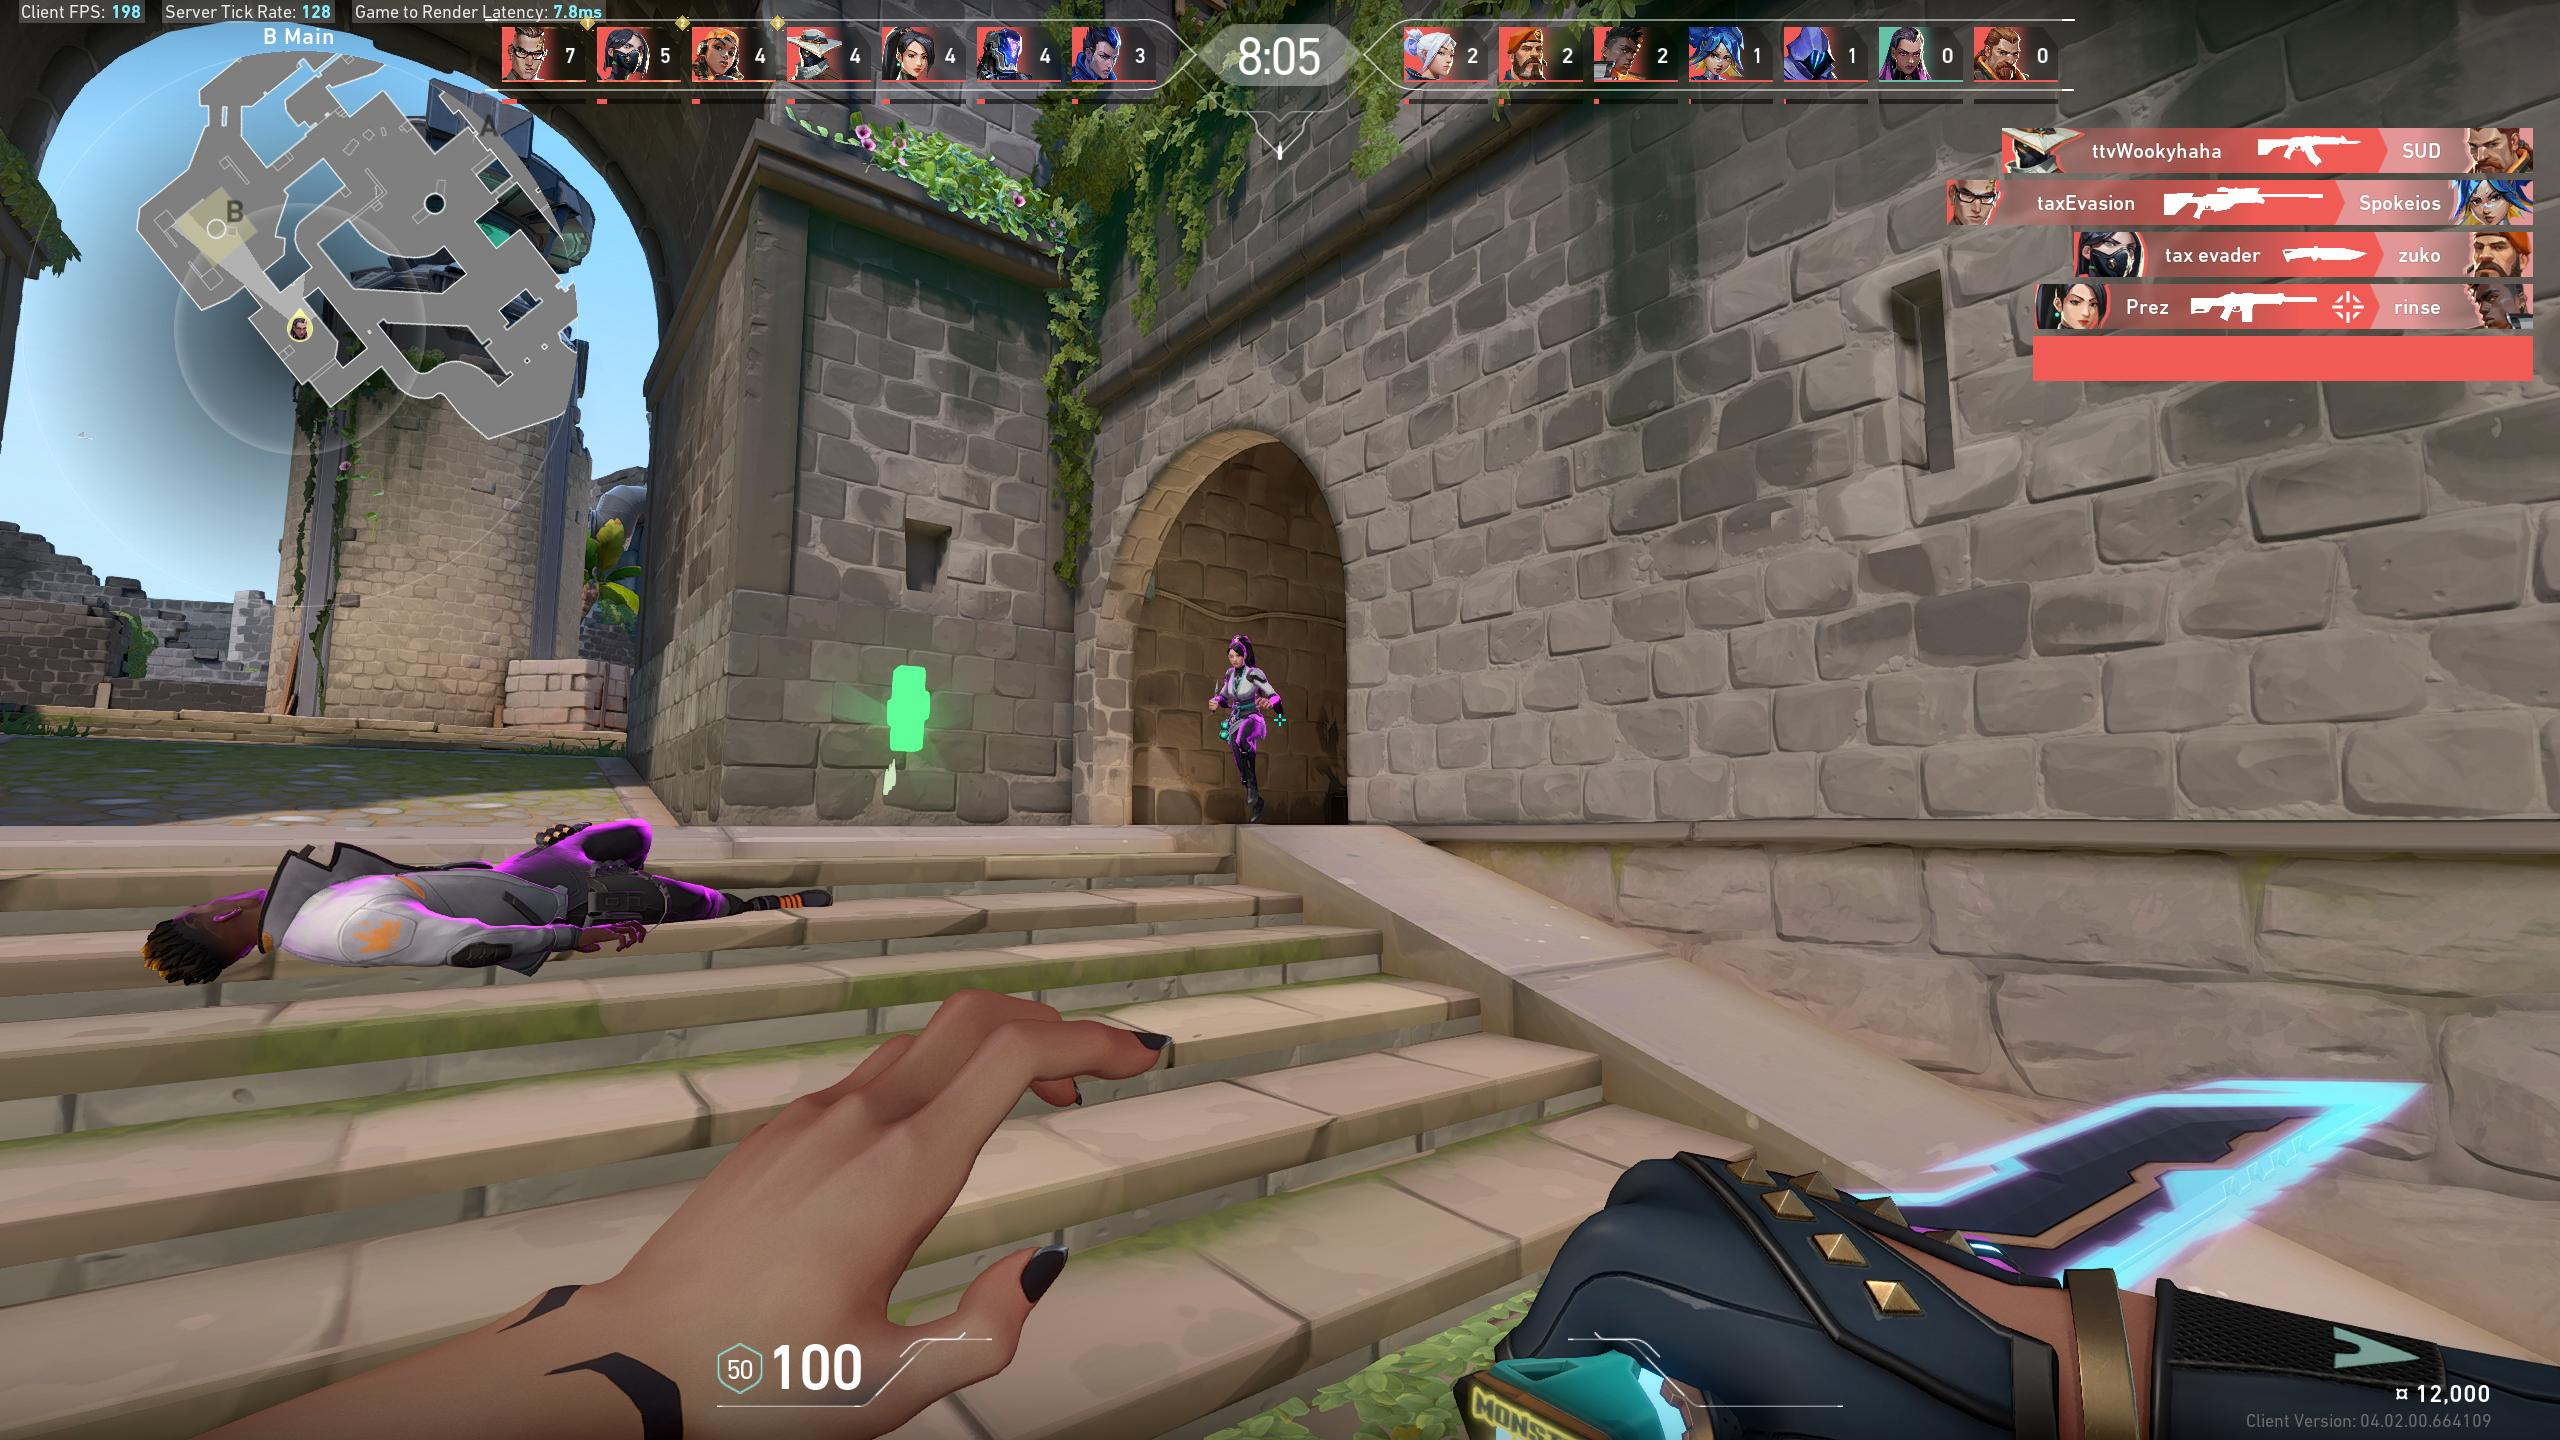enemyBody: (1234, 672, 1252, 710)
enemyHead: (1233, 649, 1241, 665)
